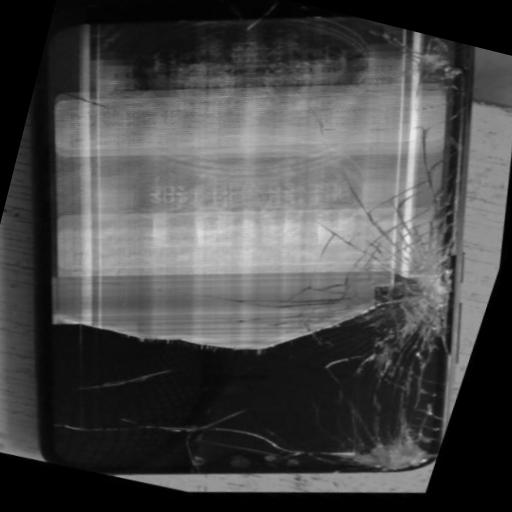phone: (34, 0, 473, 473)
